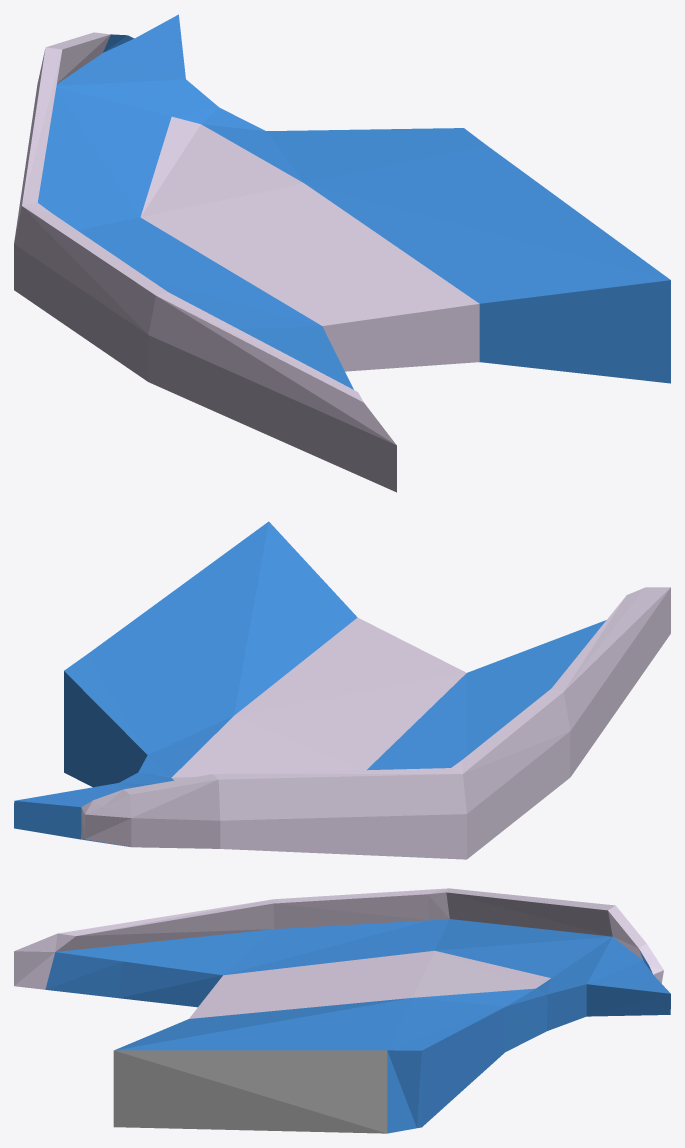
The picture shows the model from 3 angles, top to bottom: view 1: azimuth 30°, elevation 25°; view 2: azimuth 150°, elevation 25°; view 3: azimuth 270°, elevation 25°; orthographic projection. The views are drawn at different scales.
Parts seen in each view (by area): view 1: pCube9; view 2: pCube9; view 3: pCube9.
Boxes of the visible parts, box(x1,y1,x2,y2) form: pCube9: box(14, 14, 670, 492); pCube9: box(14, 521, 670, 859); pCube9: box(14, 888, 670, 1133).
Size of the model in its own units: 1390 by 472 by 2385.
